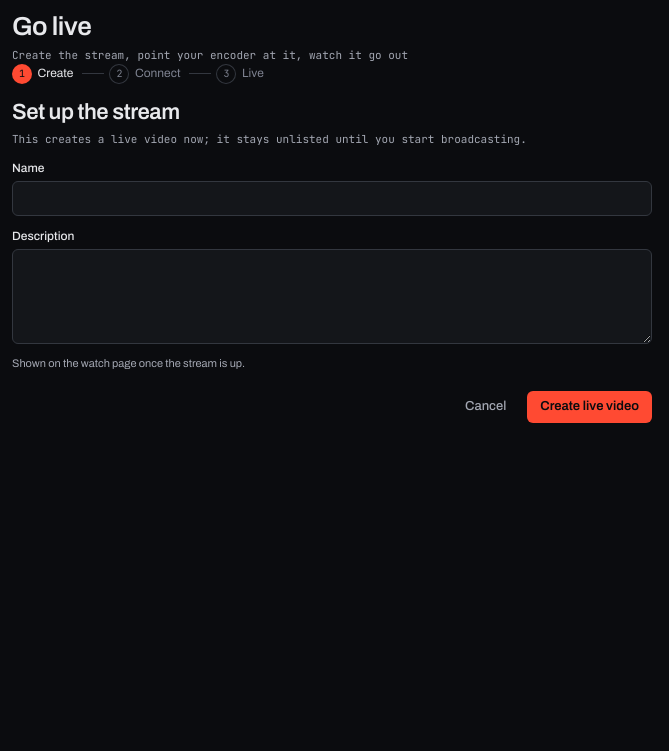
Test: Go live wizard › honors VITE_RTMP_HOST over the page host
Step 1. Type "Live from the closet" into the field labelled "Name" → coordinates (332, 198), box [12,181,652,216]
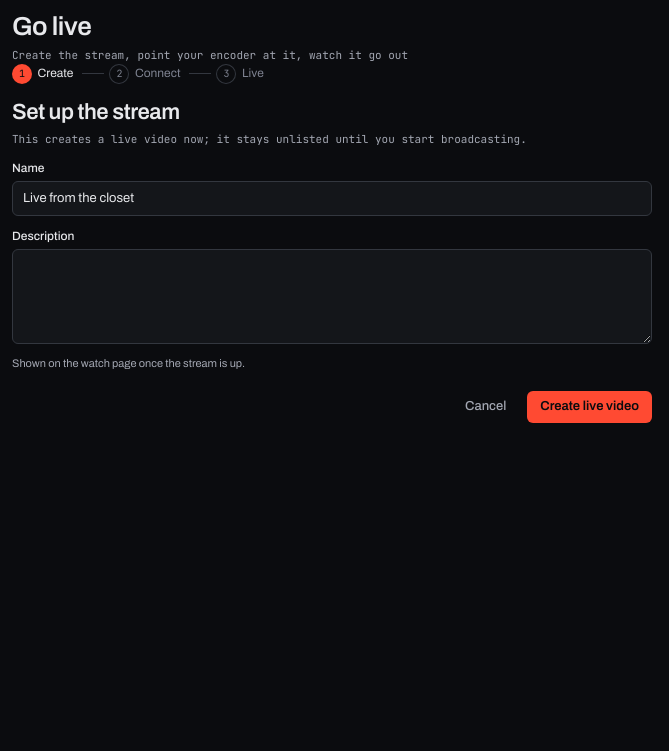
Step 2. Type "Sitting with the queue while the encoder works." into the text box labelled "Description" → coordinates (332, 297), box [12,249,652,344]
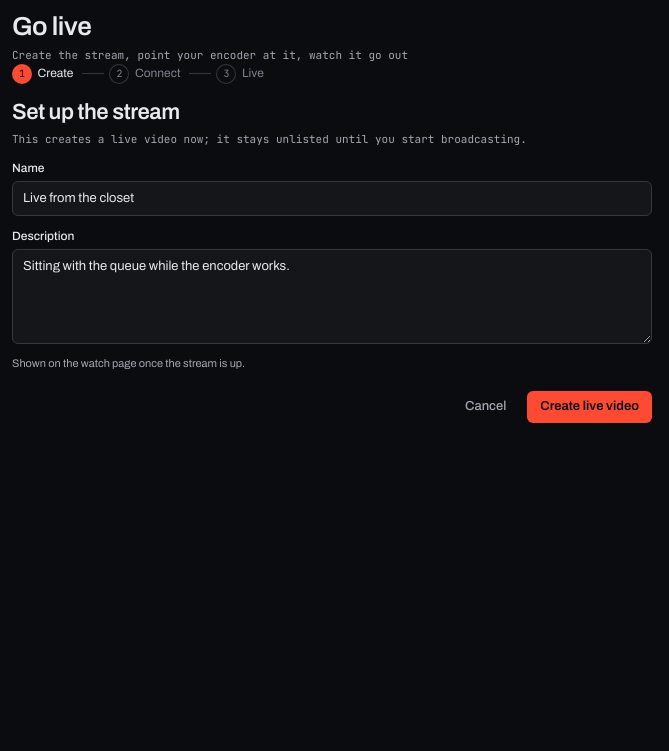
Step 3. Click the button "Create live video" → coordinates (590, 407), box [527,391,652,423]
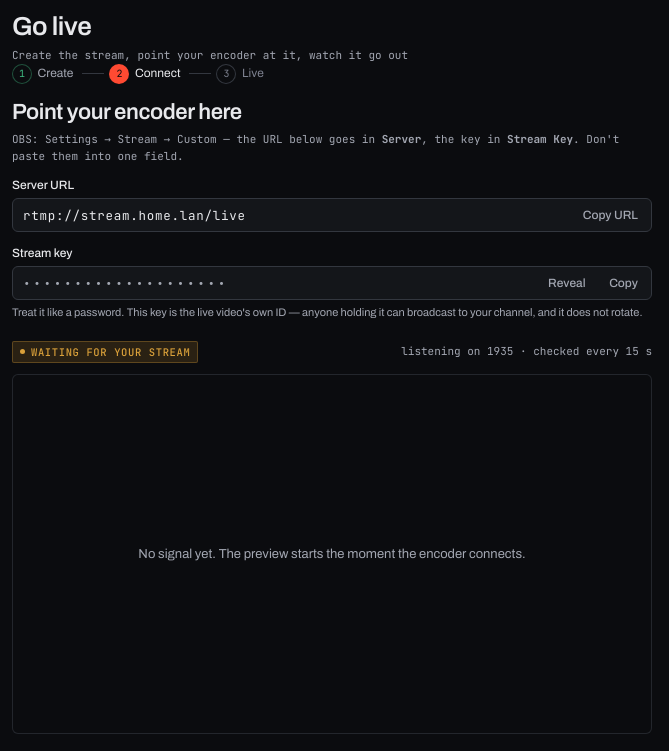
Check: the text "rtmp://stream.home.lan/live" is shown, box [23,207,246,224]
